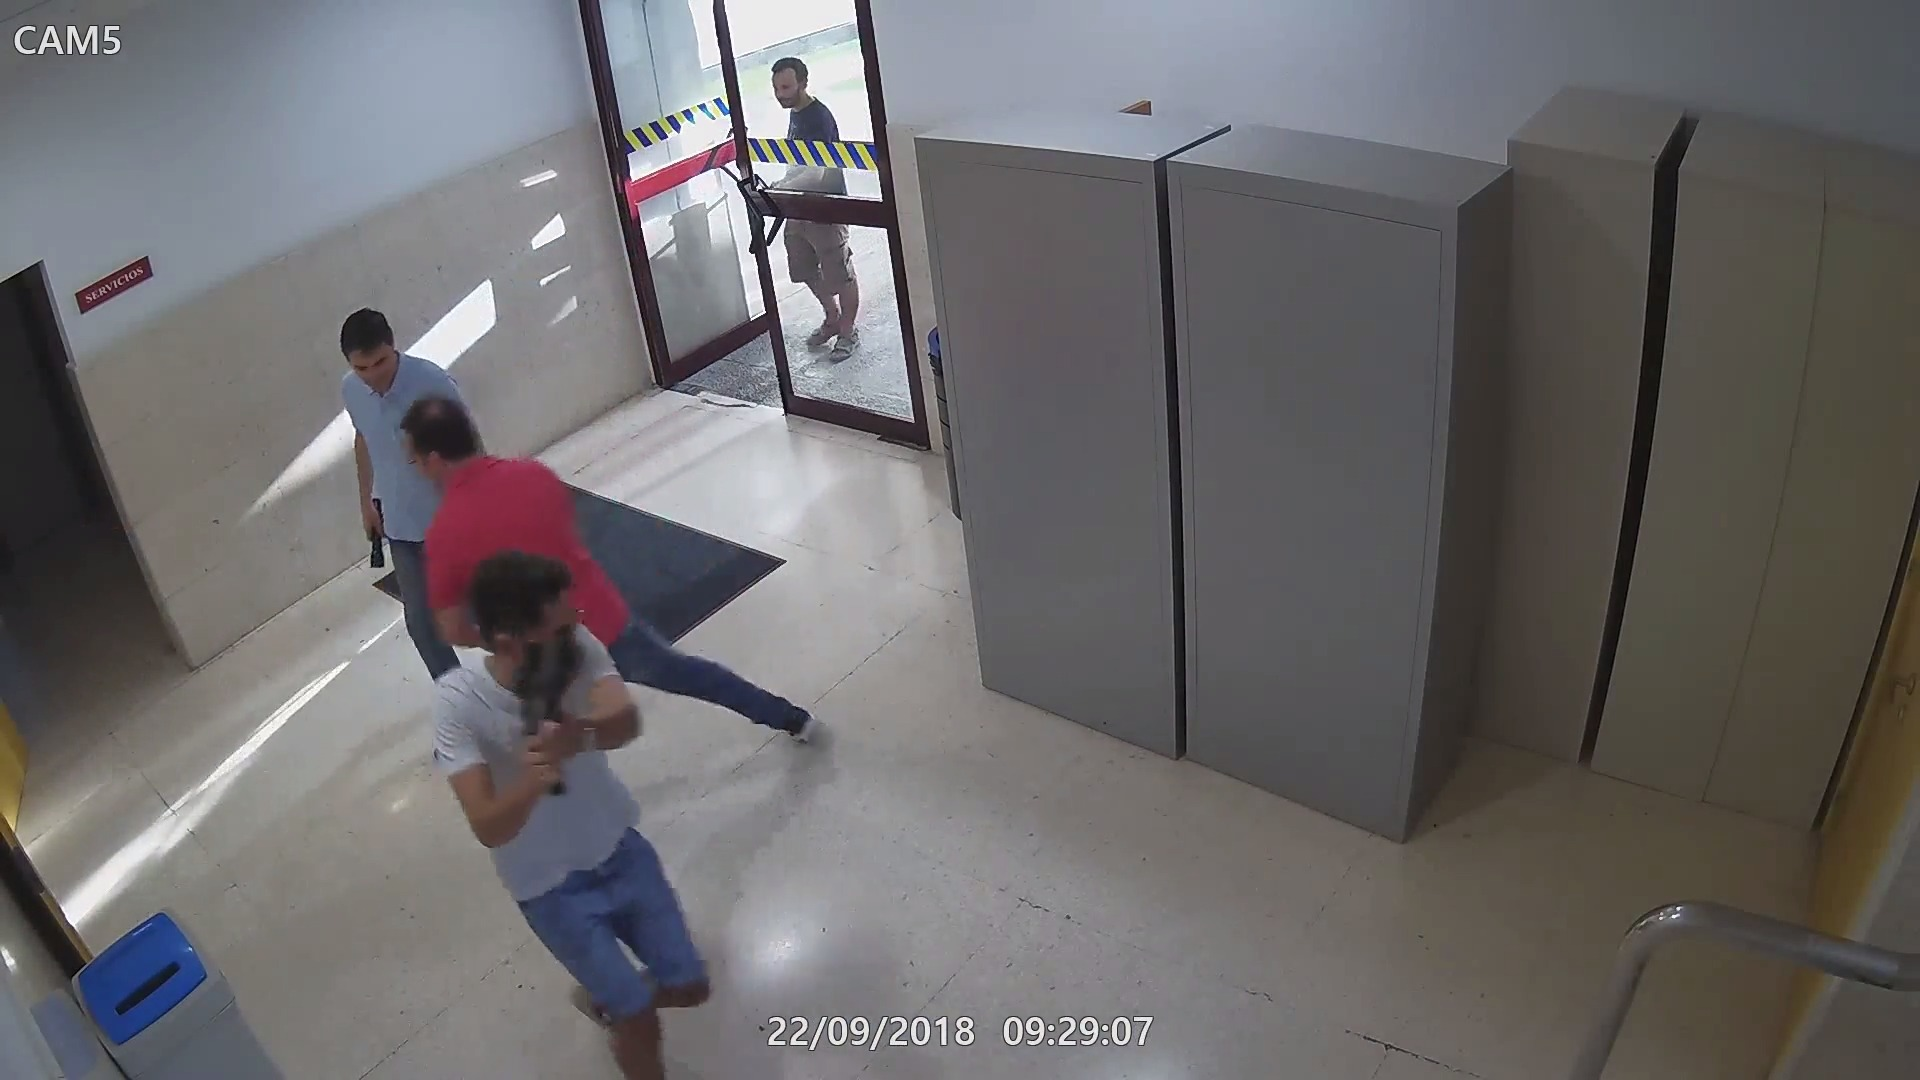Short_rifle: (512, 622, 578, 807)
